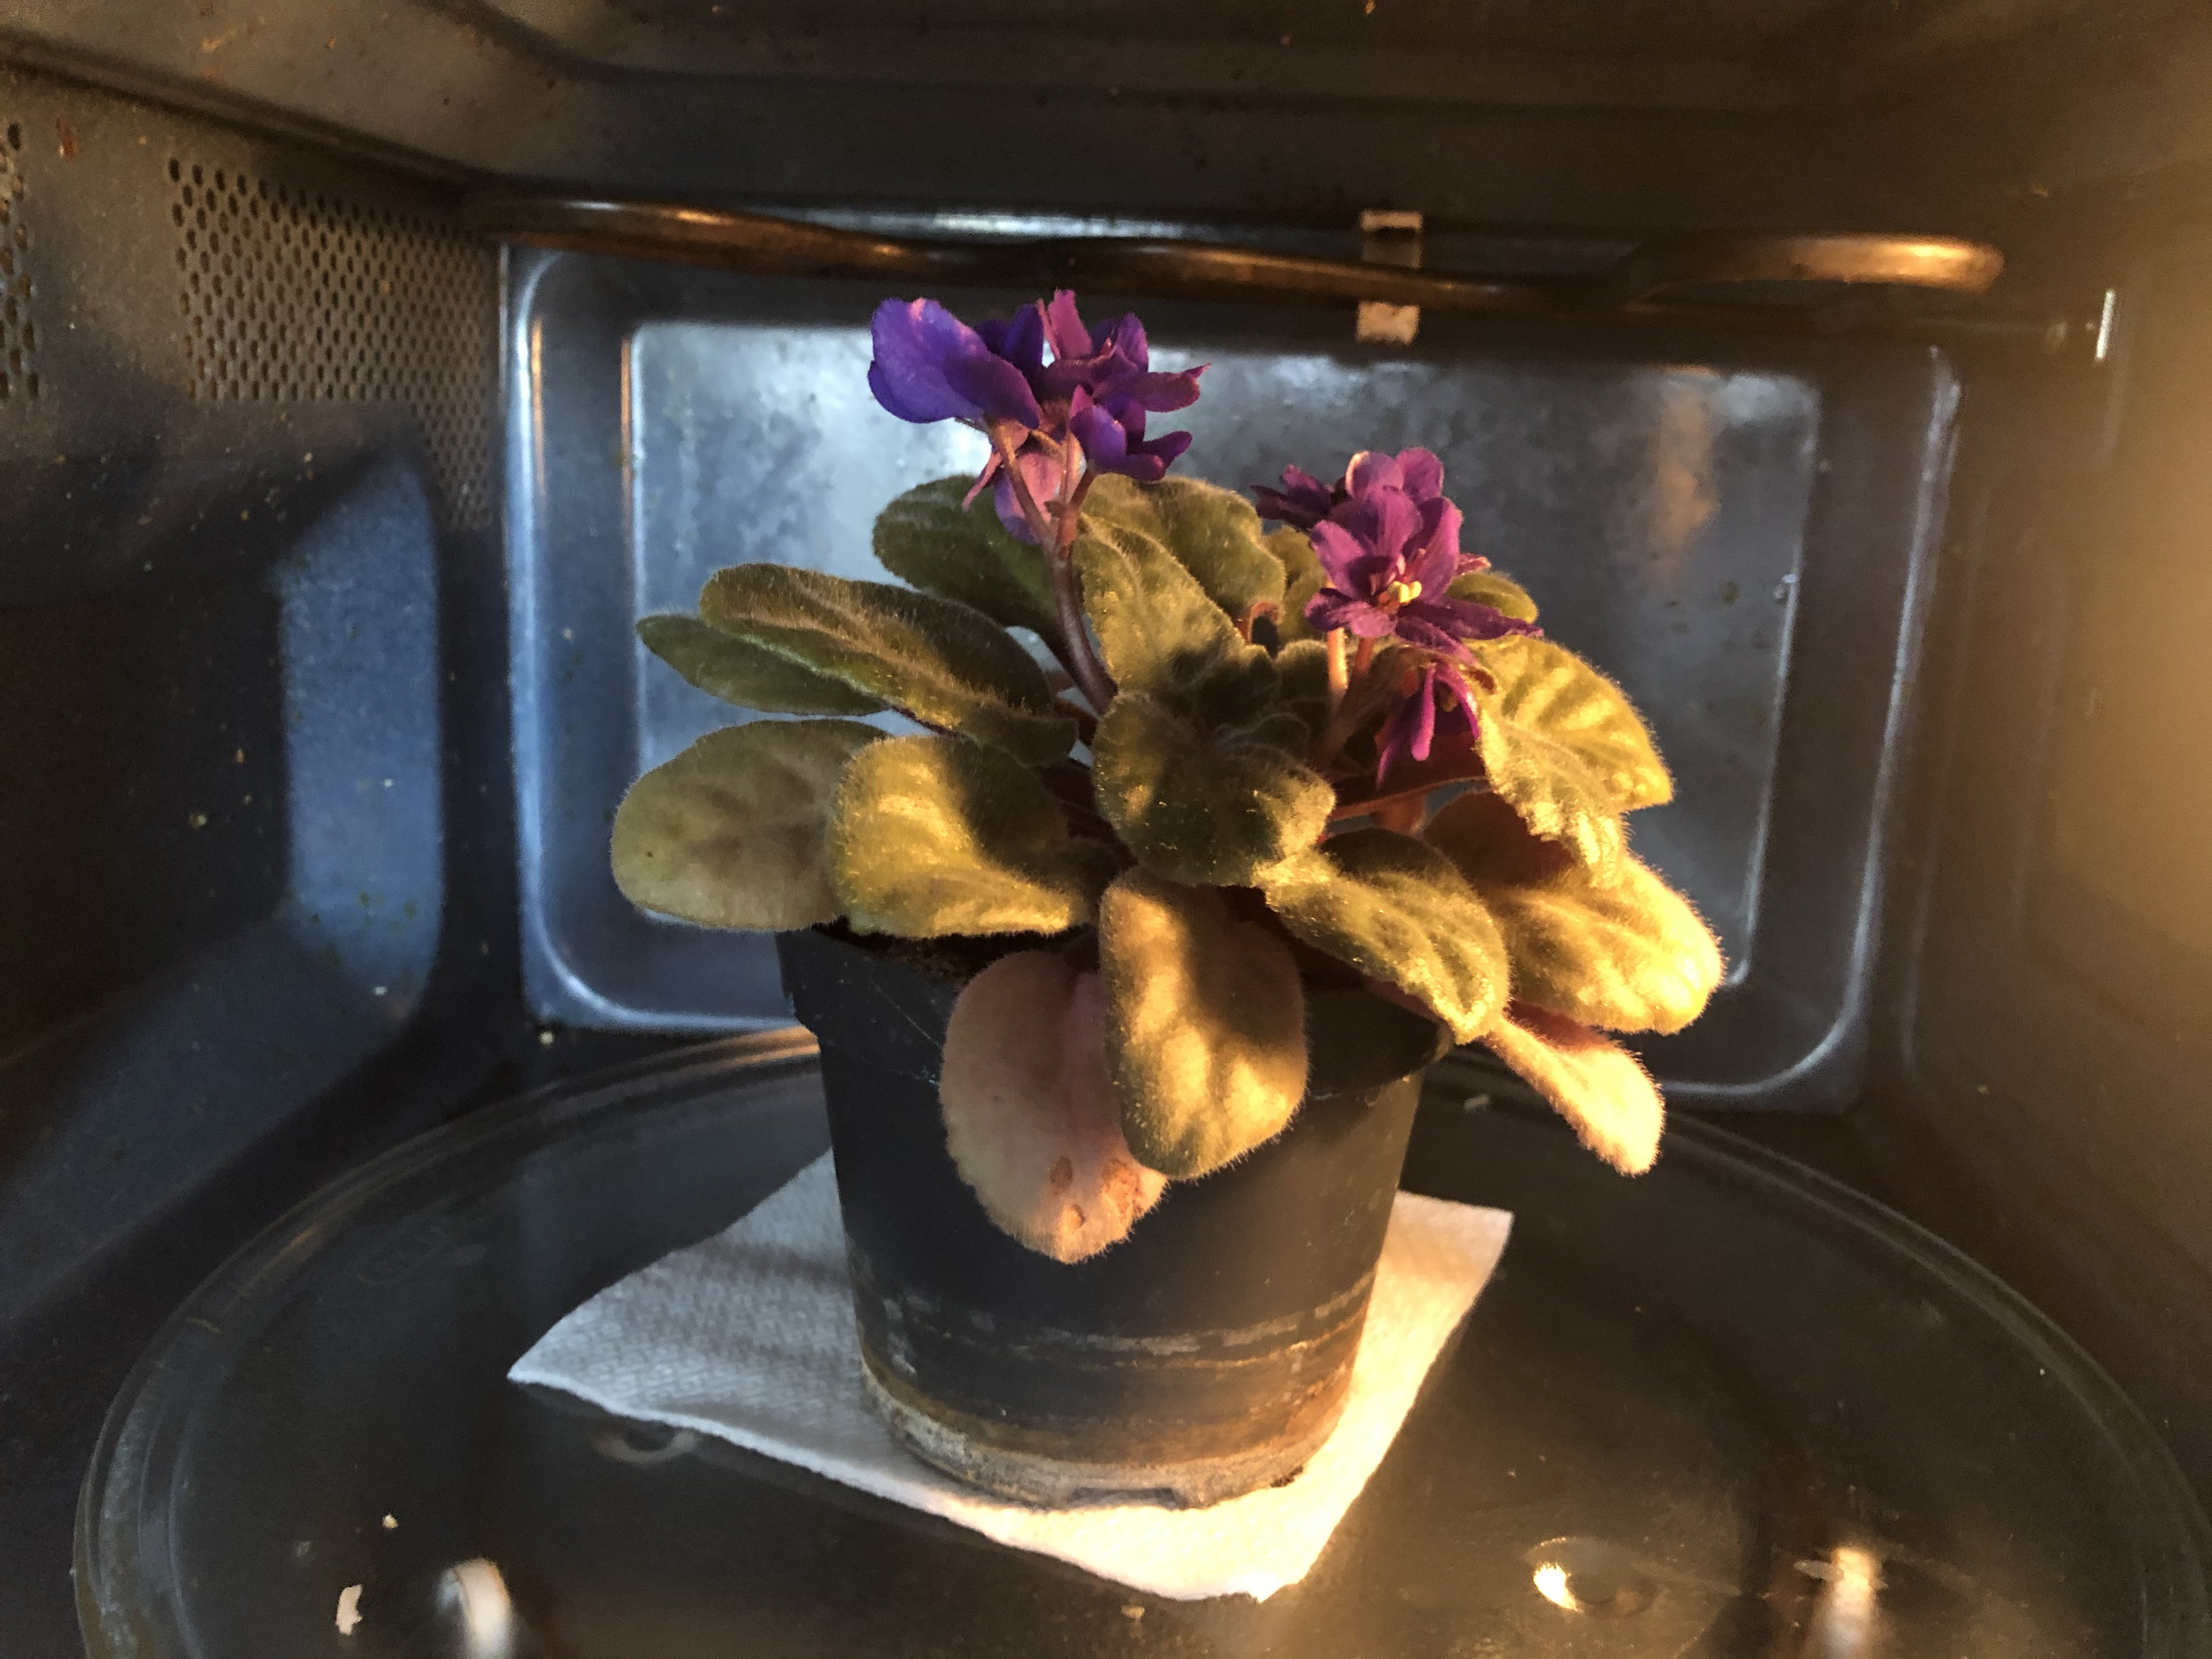ignore: (603, 258, 1726, 1201)
